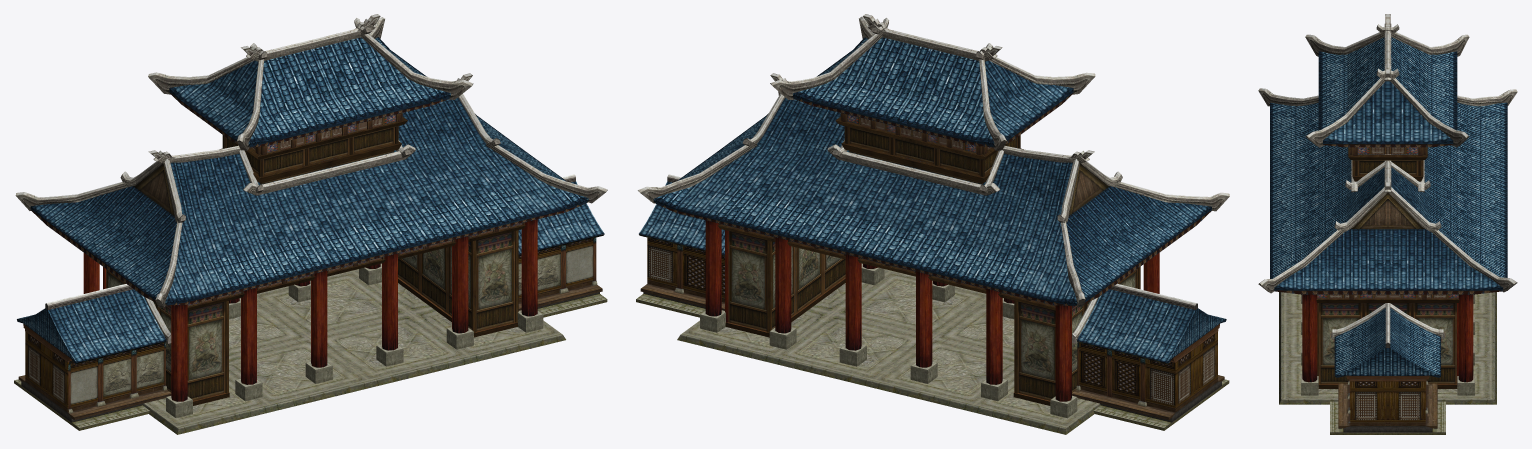
File: secret_door_02.glb
The picture shows the model from 3 angles, left to right: view 1: azimuth 30°, elevation 25°; view 2: azimuth 150°, elevation 25°; view 3: azimuth 270°, elevation 25°; orthographic projection. The views are drawn at different scales.
Visible parts, largest first — view 1: secret_door_02; view 2: secret_door_02; view 3: secret_door_02.
Boxes of the visible parts, x1,y1,x2,y2 form: secret_door_02: (14, 14, 607, 434); secret_door_02: (636, 14, 1229, 434); secret_door_02: (1258, 14, 1517, 434).
Bounding box in the file's own units: 60 × 33.76 × 28.7.
7 materials, 7 textured.
